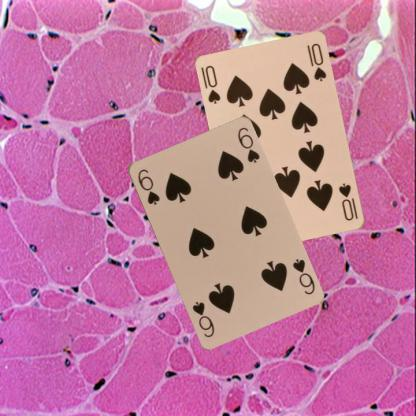10s: (336, 180, 356, 223), (203, 63, 222, 106)
6s: (290, 255, 316, 296), (134, 166, 160, 206)
